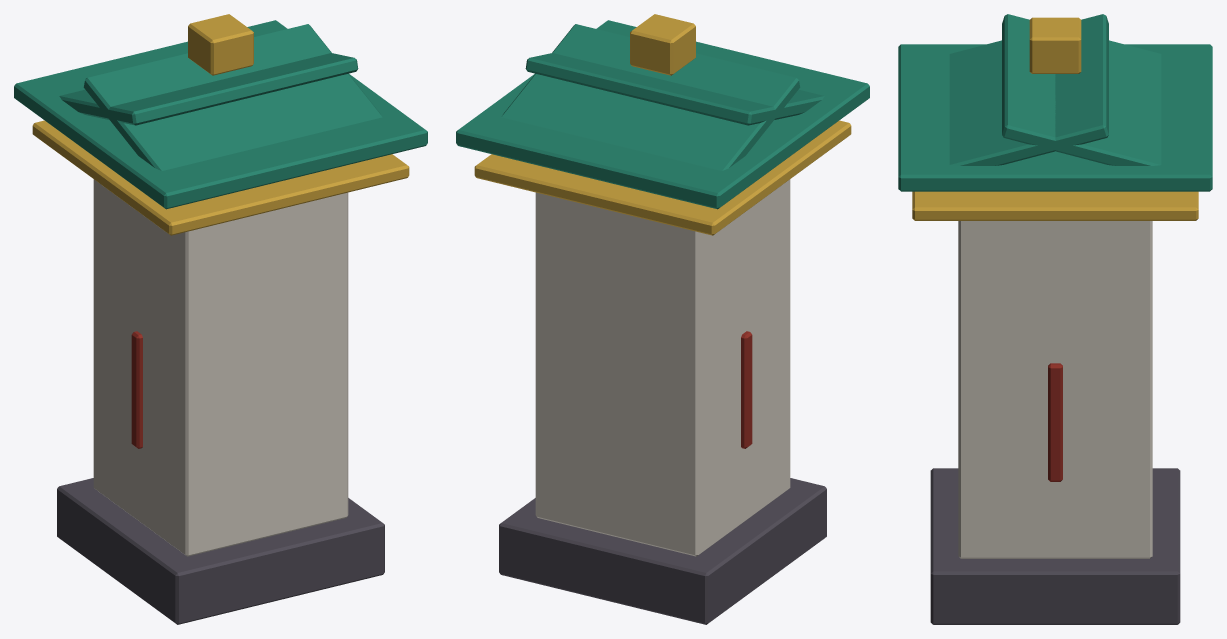
Rendered from asian-post.glb.
3 views of the same model, side by side, from view 1: azimuth 30°, elevation 25°; view 2: azimuth 150°, elevation 25°; view 3: azimuth 270°, elevation 25° (orthographic). The views are drawn at different scales.
Parts seen in each view (by area): view 1: body; view 2: body; view 3: body.
Boxes of the visible parts, x1,y1,x2,y2 form: body: (14,14,427,624); body: (456,14,869,624); body: (898,14,1212,624).
Size of the model in its own units: 1.7 by 3.26 by 1.7.
